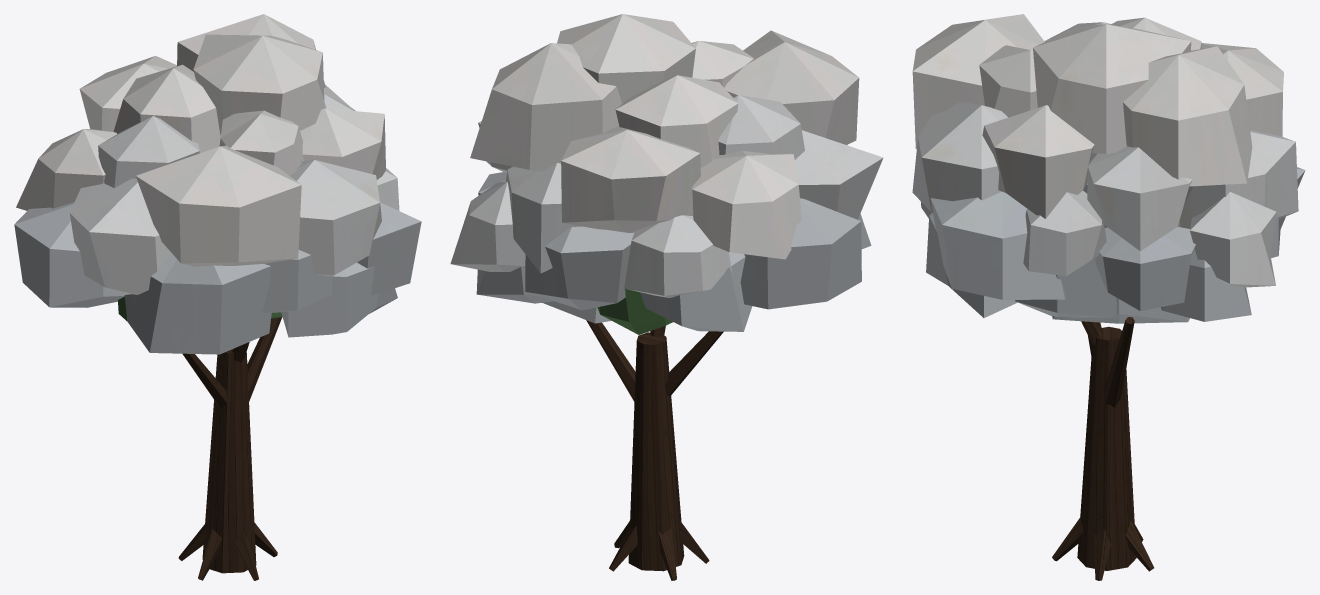
Rendered from tree_broadleaf_01_snow.glb.
3 renders of one model, left to right at view 1: azimuth 30°, elevation 25°; view 2: azimuth 150°, elevation 25°; view 3: azimuth 270°, elevation 25°, orthographic. The views are drawn at different scales.
Parts seen in each view (by area): view 1: tree_broadleaf_01_snow; view 2: tree_broadleaf_01_snow; view 3: tree_broadleaf_01_snow.
Boxes of the visible parts, x1,y1,x2,y2 form: tree_broadleaf_01_snow: [14, 14, 421, 580]; tree_broadleaf_01_snow: [450, 14, 883, 580]; tree_broadleaf_01_snow: [912, 14, 1305, 580].
Size of the model in its own units: 4.62 by 6.59 by 4.25.
5 materials, 5 textured.
